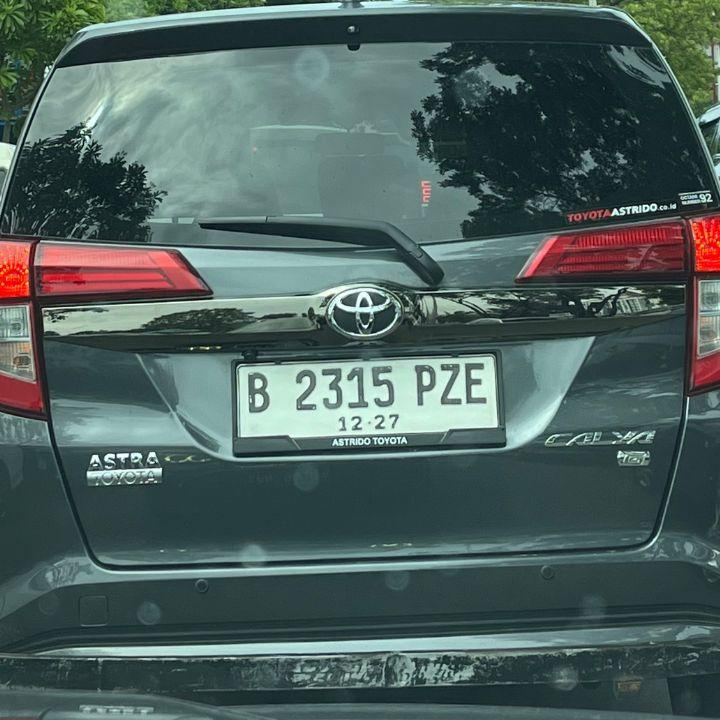plat: (236, 354, 505, 453)
